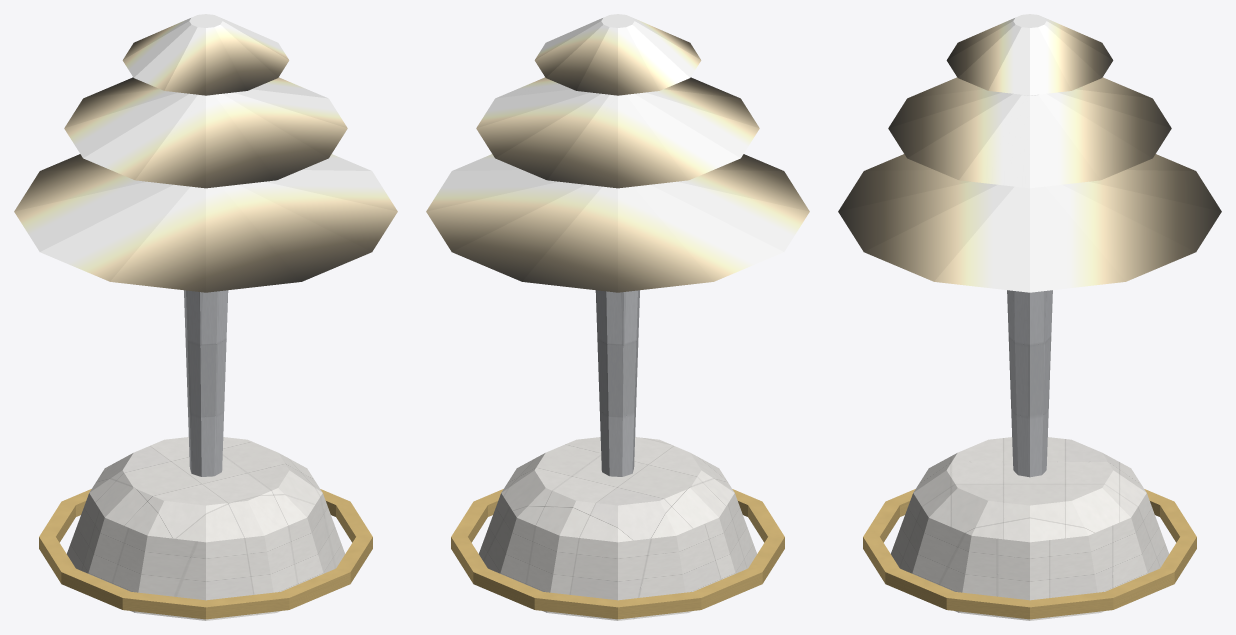
Rendered from sanc_holo_tree.obj.
3 renders of one model, left to right at view 1: azimuth 30°, elevation 25°; view 2: azimuth 150°, elevation 25°; view 3: azimuth 270°, elevation 25°, orthographic.
Visible parts, largest first — view 1: sanc_holo_tree; view 2: sanc_holo_tree; view 3: sanc_holo_tree.
Part boxes in pixels (x1=…): sanc_holo_tree: x1=14, y1=14, x2=397, y2=620; sanc_holo_tree: x1=426, y1=14, x2=809, y2=620; sanc_holo_tree: x1=838, y1=14, x2=1221, y2=620.
Bounding box in the file's own units: 2.3 × 3.57 × 2.3.
1 material, 1 textured.
